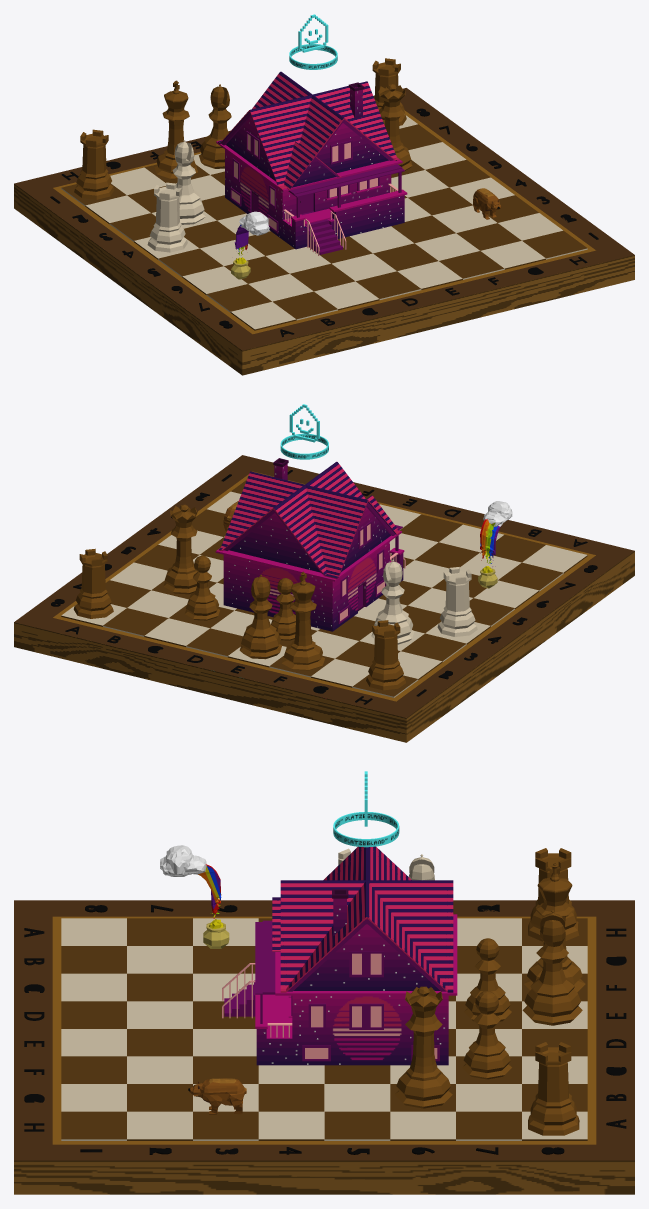
3 views of the same model, one above another, from view 1: azimuth 30°, elevation 25°; view 2: azimuth 150°, elevation 25°; view 3: azimuth 270°, elevation 25° (orthographic). The views are drawn at different scales.
Visible parts, largest first — view 1: Cube.002, Cube.156, OBJRANDOM_RAINBOW, TYPE_PREMIUM, ANIMAL_OSO; view 2: Cube.002, Cube.156, OBJRANDOM_RAINBOW, TYPE_PREMIUM; view 3: Cube.002, Cube.156, OBJRANDOM_RAINBOW, ANIMAL_OSO, TYPE_PREMIUM.
Part boxes in pixels (box(x1,y1,x2,y2)): Cube.002: box(14, 58, 634, 375); Cube.156: box(216, 71, 407, 255); OBJRANDOM_RAINBOW: box(231, 211, 269, 279); TYPE_PREMIUM: box(289, 14, 337, 69); ANIMAL_OSO: box(473, 188, 501, 219); Cube.002: box(14, 455, 634, 742); Cube.156: box(215, 458, 405, 631); OBJRANDOM_RAINBOW: box(478, 501, 512, 588); TYPE_PREMIUM: box(280, 404, 328, 459); Cube.002: box(14, 848, 634, 1194); Cube.156: box(222, 846, 457, 1065); OBJRANDOM_RAINBOW: box(160, 845, 229, 948); ANIMAL_OSO: box(188, 1078, 246, 1114); TYPE_PREMIUM: box(333, 771, 399, 847).
Bounding box in the file's own units: 3981 × 2155 × 4012.
34 materials, 5 textured.
